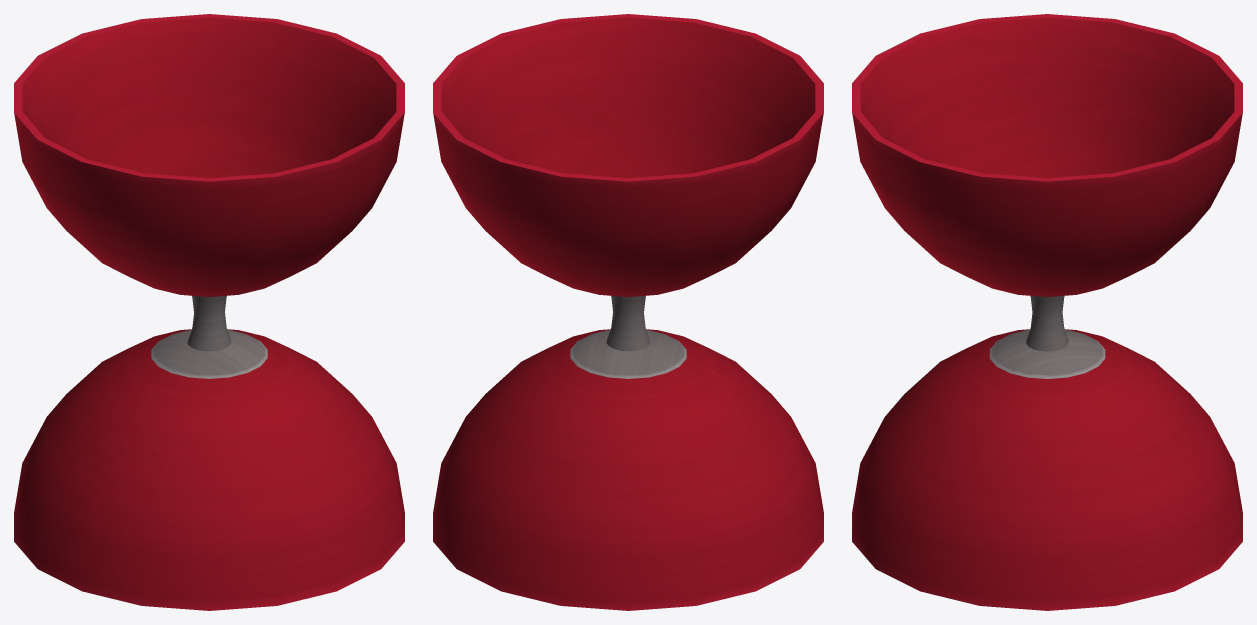
Rendered from Diabolo_Red_Scaled.fbx.
3 renders of one model, left to right at view 1: azimuth 30°, elevation 25°; view 2: azimuth 150°, elevation 25°; view 3: azimuth 270°, elevation 25°, orthographic.
Parts seen in each view (by area): view 1: Diabolo_Body8; view 2: Diabolo_Body8; view 3: Diabolo_Body8.
Boxes of the visible parts, left/top/right/bottom form: Diabolo_Body8: left=14, top=14, right=404, bottom=610; Diabolo_Body8: left=433, top=14, right=823, bottom=610; Diabolo_Body8: left=852, top=14, right=1242, bottom=610.
Size of the model in its own units: 9.85 by 11.75 by 9.7.
